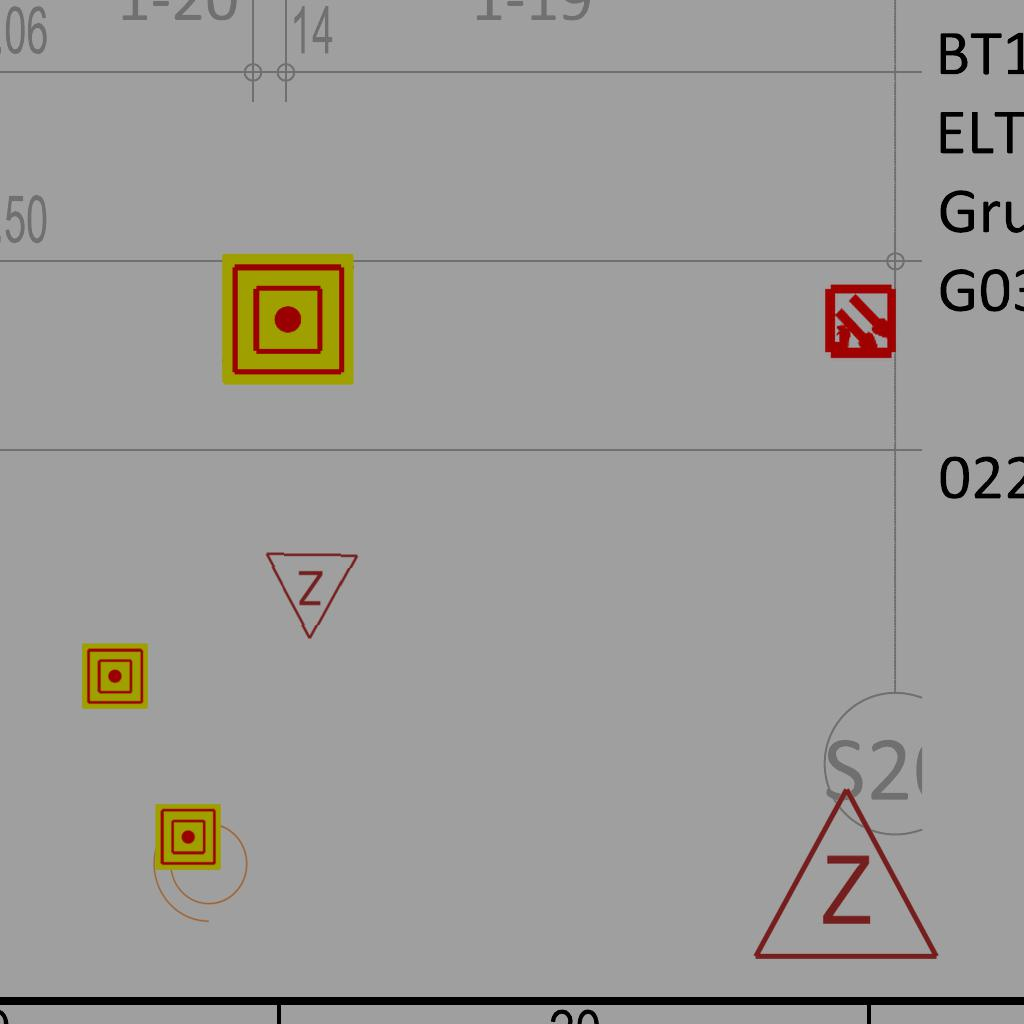NAM-Nichtautomatischer_Melder: (222, 253, 354, 385), (82, 643, 148, 709), (155, 804, 221, 870)
OT_Multisensormelder_(Kombination_RMO_WMD): (804, 267, 917, 380)
Scheinwerfer_fuer_Alarmbeleuchtung: (148, 801, 260, 933)
Zimmersignalleuchte: (746, 774, 942, 974), (262, 545, 362, 647)
